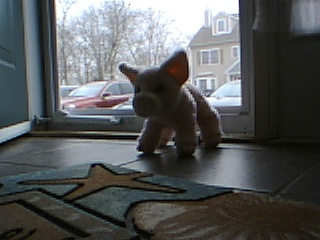piggy: (118, 47, 225, 158)
